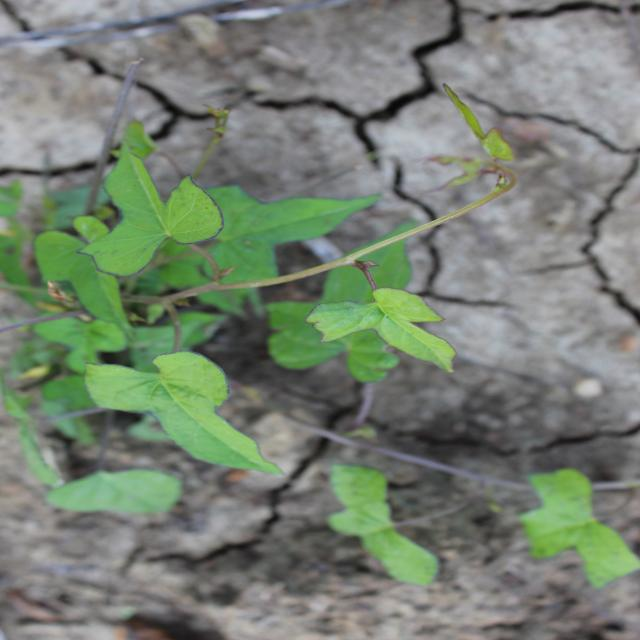MorningGlory: (3, 78, 636, 592)
